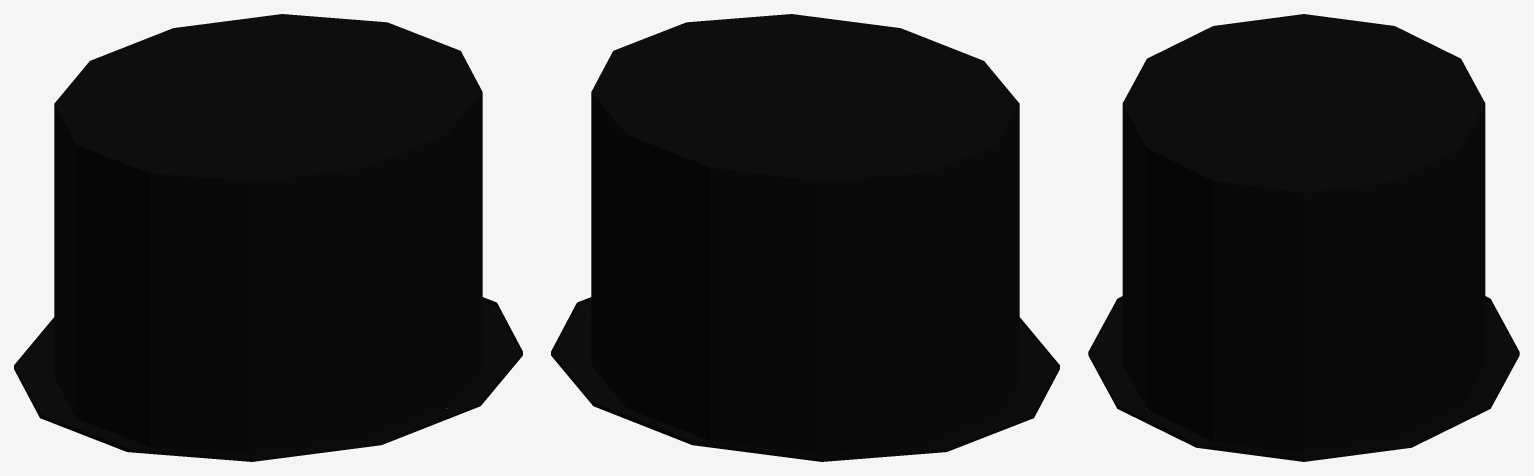
File: topHat.fbx
The picture shows the model from 3 angles, left to right: view 1: azimuth 30°, elevation 25°; view 2: azimuth 150°, elevation 25°; view 3: azimuth 270°, elevation 25°; orthographic projection. The views are drawn at different scales.
Parts seen in each view (by area): view 1: TopHat; view 2: TopHat; view 3: TopHat.
Boxes of the visible parts, <box> form: TopHat: <box>14,14,522,461</box>; TopHat: <box>551,14,1059,461</box>; TopHat: <box>1088,14,1519,461</box>.
Size of the model in its own units: 1.4 by 1.2 by 0.8013.
